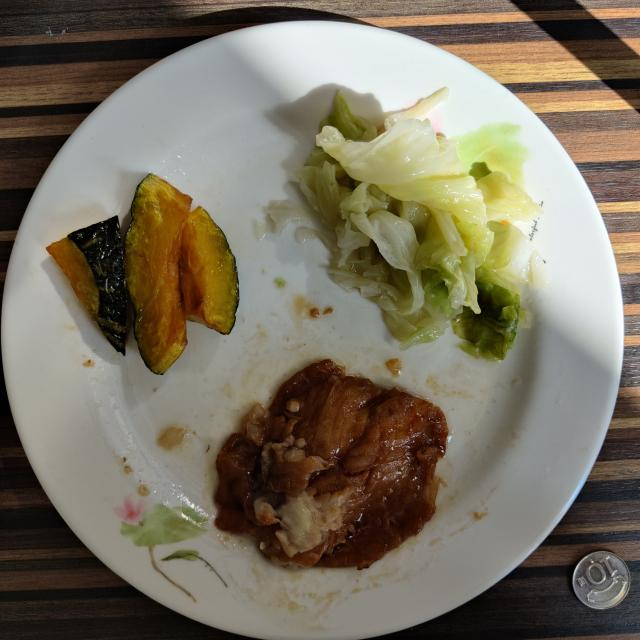Kabayaki sea bream fillet: (215, 360, 448, 570)
cabbage: (296, 89, 548, 359)
coin: (572, 551, 630, 610)
pumpkin: (124, 174, 239, 374), (48, 216, 128, 354)
